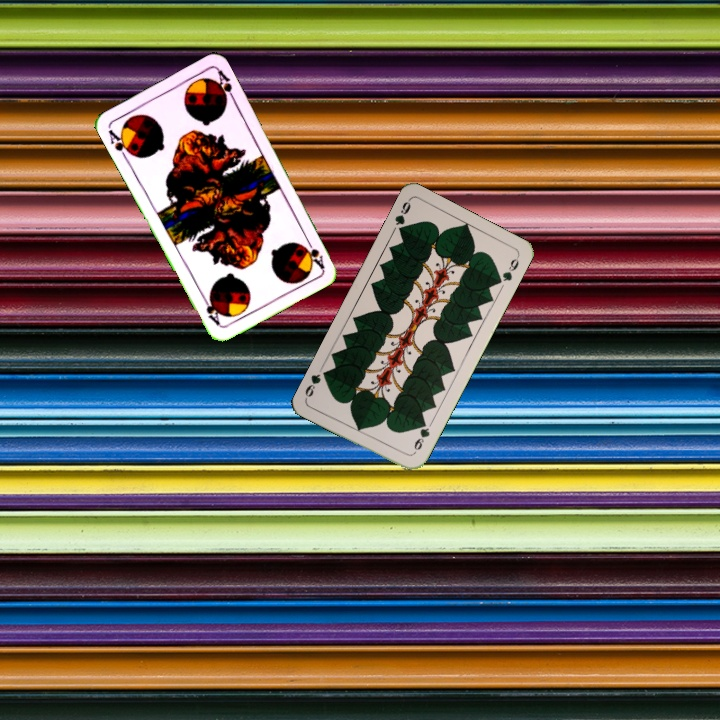G9: (391, 196, 413, 237), (410, 417, 432, 453)
SA: (104, 125, 136, 163), (301, 233, 327, 271)
